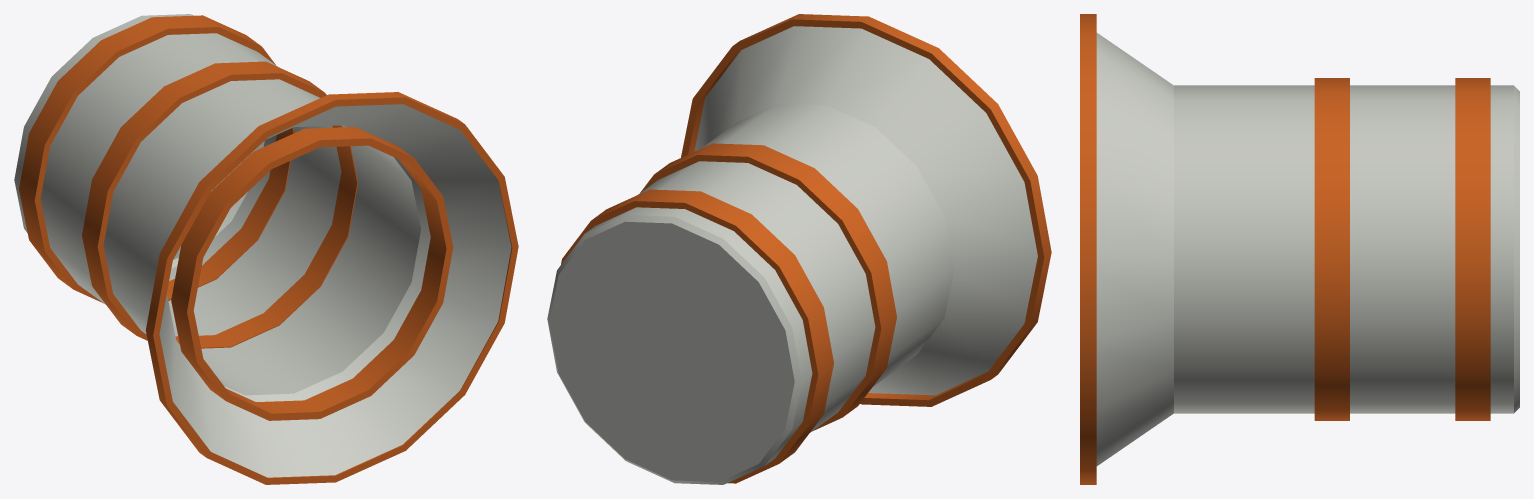
File: u70_housing.obj
3 renders of one model, left to right at view 1: azimuth 30°, elevation 25°; view 2: azimuth 150°, elevation 25°; view 3: azimuth 270°, elevation 25°, orthographic. The views are drawn at different scales.
Visible parts, largest first — view 1: u70_housing; view 2: u70_housing; view 3: u70_housing.
Part boxes in pixels (box(x1,y1,x2,y2)): u70_housing: box(14, 14, 518, 484); u70_housing: box(547, 14, 1051, 484); u70_housing: box(1080, 14, 1519, 484).
Size of the model in its own units: 4.02 by 4.02 by 3.75.
